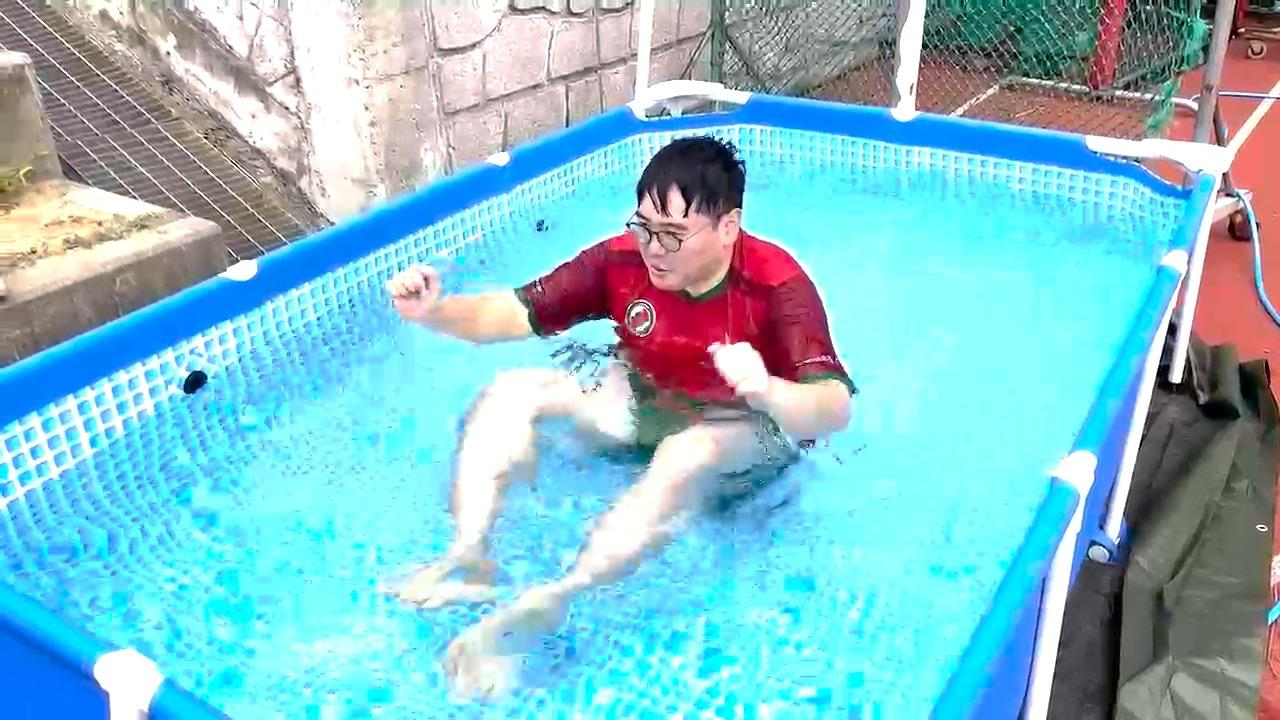Swimming: (347, 57, 877, 675)
